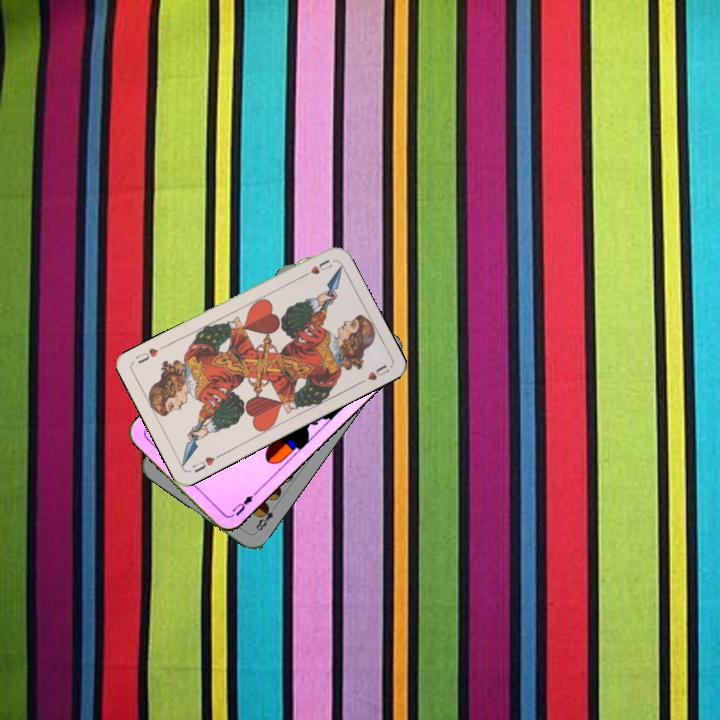E8: (252, 500, 280, 534)
EU: (226, 488, 259, 520)
HU: (188, 450, 224, 476), (298, 255, 335, 280)
